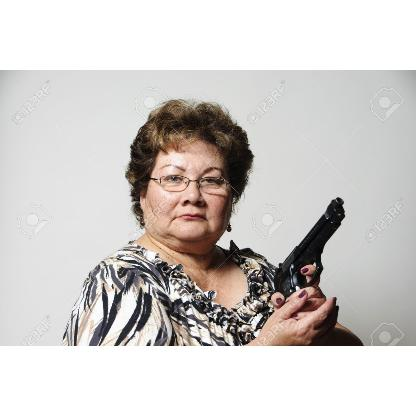gun: (267, 194, 351, 328)
